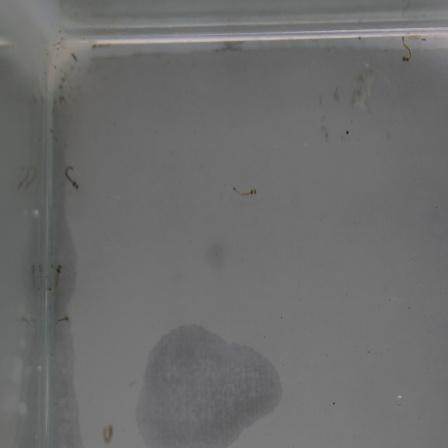Jentik-Nyamuk: (228, 178, 263, 204), (62, 158, 83, 197), (394, 34, 415, 64)
